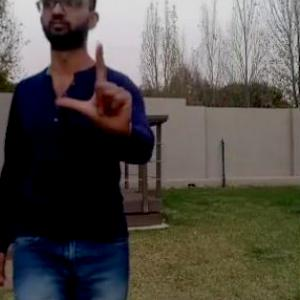land_hand: (51, 36, 138, 140)
